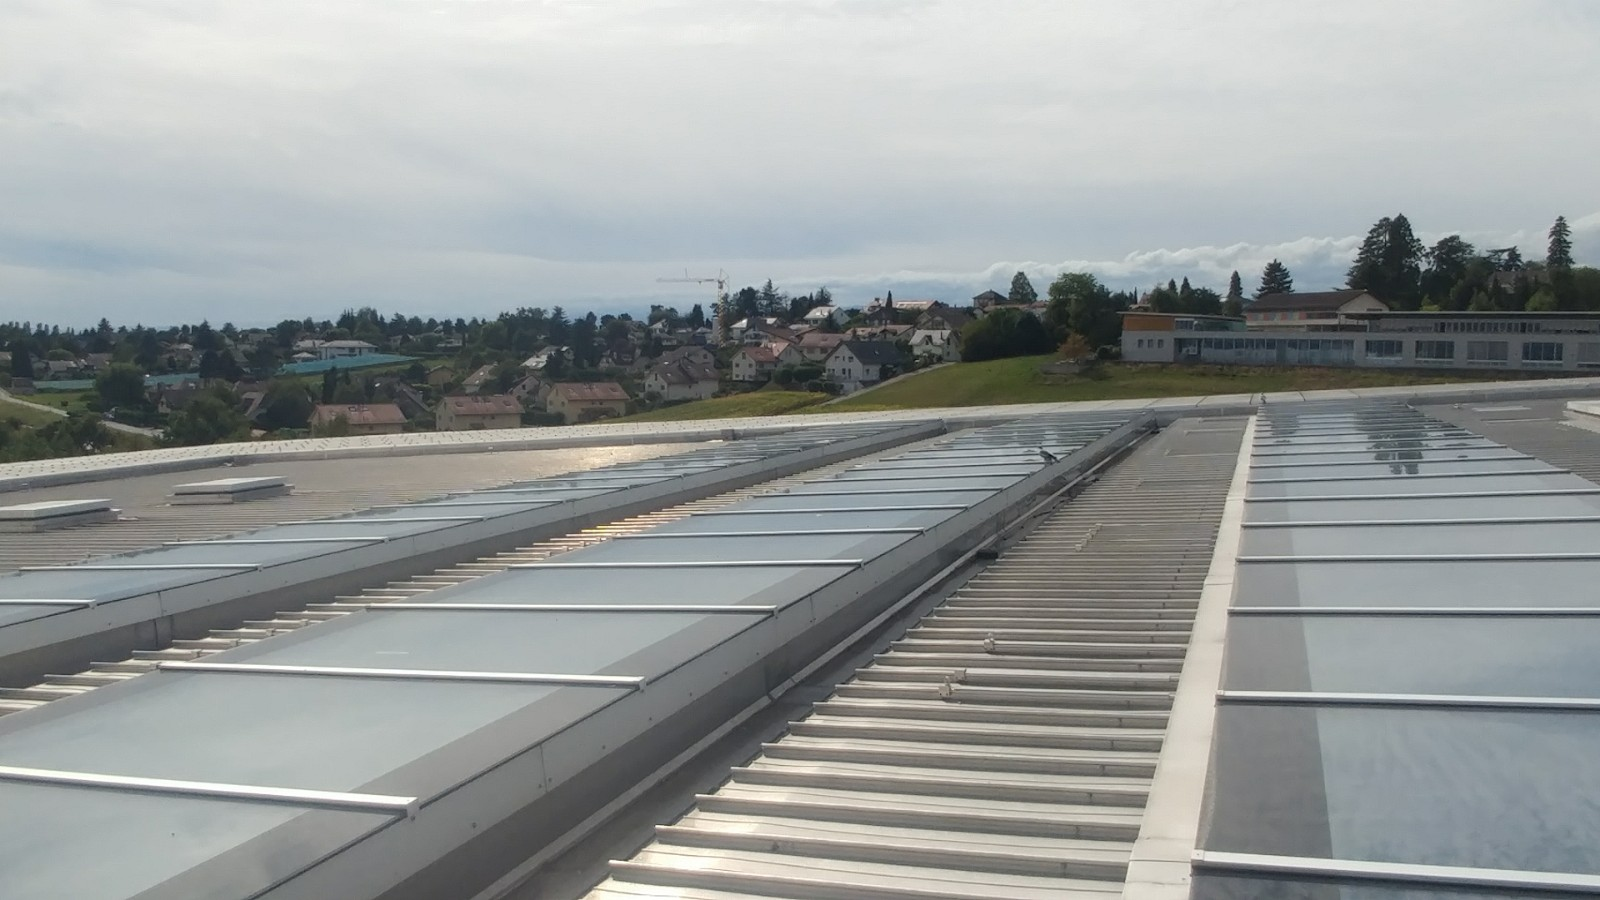Pigeon: (1033, 445, 1063, 471)
